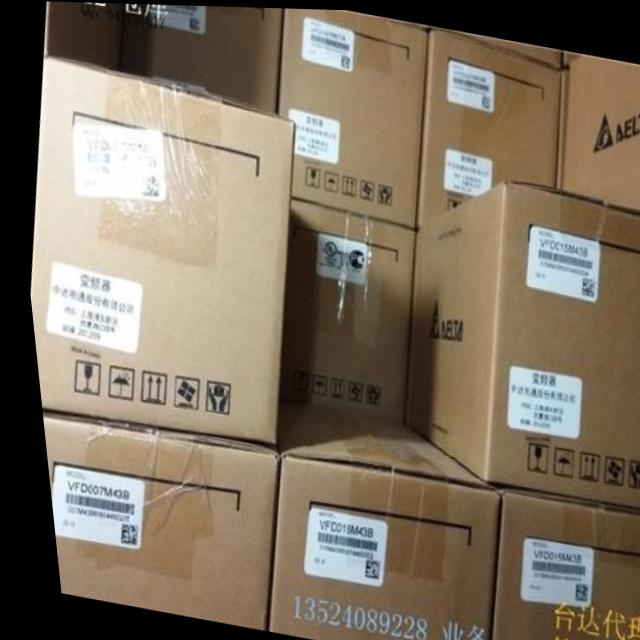box: (25, 55, 292, 443), (398, 179, 640, 511), (254, 408, 491, 640), (34, 412, 269, 628), (278, 7, 430, 226), (269, 197, 410, 423), (413, 28, 561, 225), (478, 487, 640, 640), (117, 3, 283, 113), (555, 52, 640, 208), (46, 1, 123, 67)
